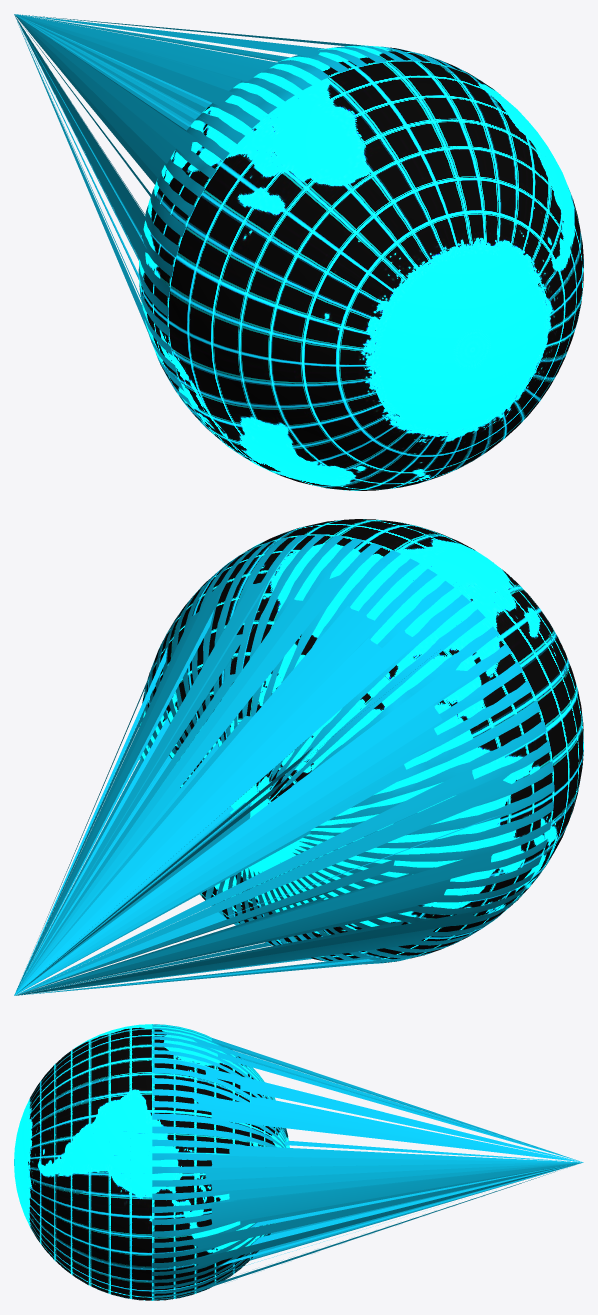
The model's file is earth-hologram.glb.
The picture shows the model from 3 angles, top to bottom: view 1: azimuth 30°, elevation 25°; view 2: azimuth 150°, elevation 25°; view 3: azimuth 270°, elevation 25°; orthographic projection. The views are drawn at different scales.
Parts seen in each view (by area): view 1: Earth_2_Earth_Surface_002_0, Earth_rays_2_transparent_004_0; view 2: Earth_rays_2_transparent_004_0, Earth_2_Earth_Surface_002_0; view 3: Earth_rays_2_transparent_004_0, Earth_2_Earth_Surface_002_0.
Part boxes in pixels (x1,y1,x2,y2): Earth_2_Earth_Surface_002_0: (139, 45, 583, 490); Earth_rays_2_transparent_004_0: (14, 14, 500, 442); Earth_rays_2_transparent_004_0: (14, 534, 554, 995); Earth_2_Earth_Surface_002_0: (139, 519, 583, 964); Earth_rays_2_transparent_004_0: (152, 1024, 583, 1300); Earth_2_Earth_Surface_002_0: (14, 1024, 289, 1300).
Bounding box in the file's own units: 128 × 128 × 264.
Materials: 2 (2 with a texture image).
